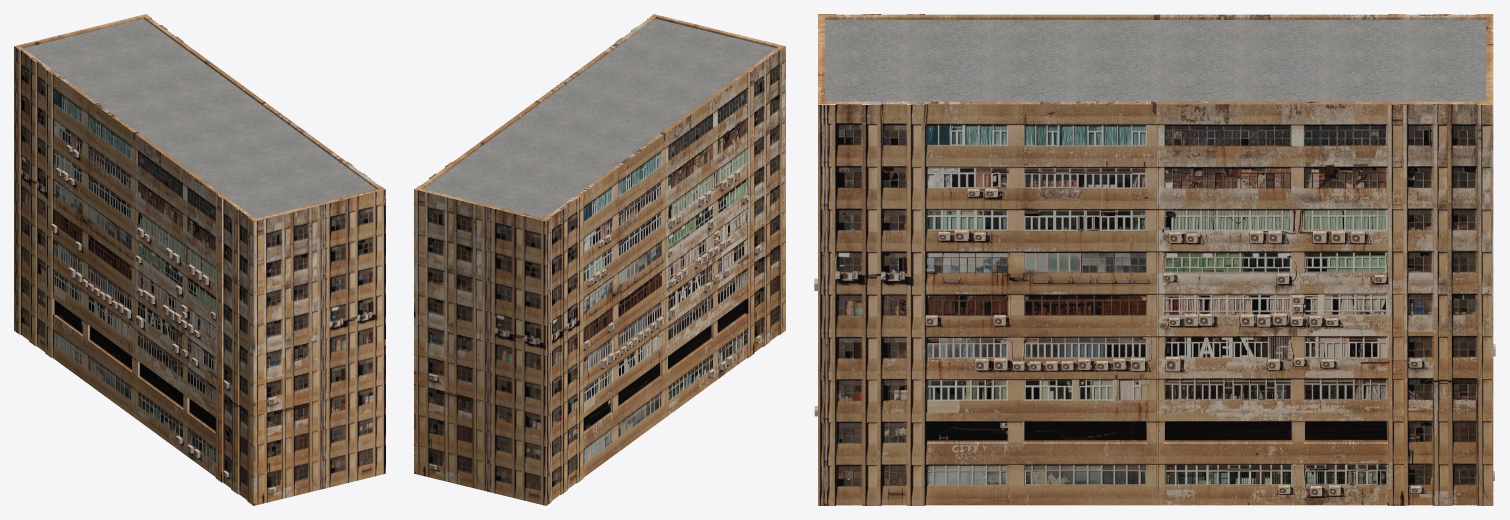
File: building_2.glb
3 views of the same model, side by side, from view 1: azimuth 30°, elevation 25°; view 2: azimuth 150°, elevation 25°; view 3: azimuth 270°, elevation 25° (orthographic). The views are drawn at different scales.
Visible parts, largest first — view 1: Building_building_0, Building_gravel_0; view 2: Building_building_0, Building_gravel_0; view 3: Building_building_0, Building_gravel_0.
Part boxes in pixels (x1,y1,x2,y2): Building_building_0: (14, 14, 385, 505); Building_gravel_0: (23, 19, 376, 218); Building_building_0: (414, 14, 785, 505); Building_gravel_0: (423, 19, 776, 218); Building_building_0: (814, 14, 1495, 505); Building_gravel_0: (825, 20, 1486, 101).
Size of the model in its own units: 550 by 1098 by 1692.
2 materials, 2 textured.
